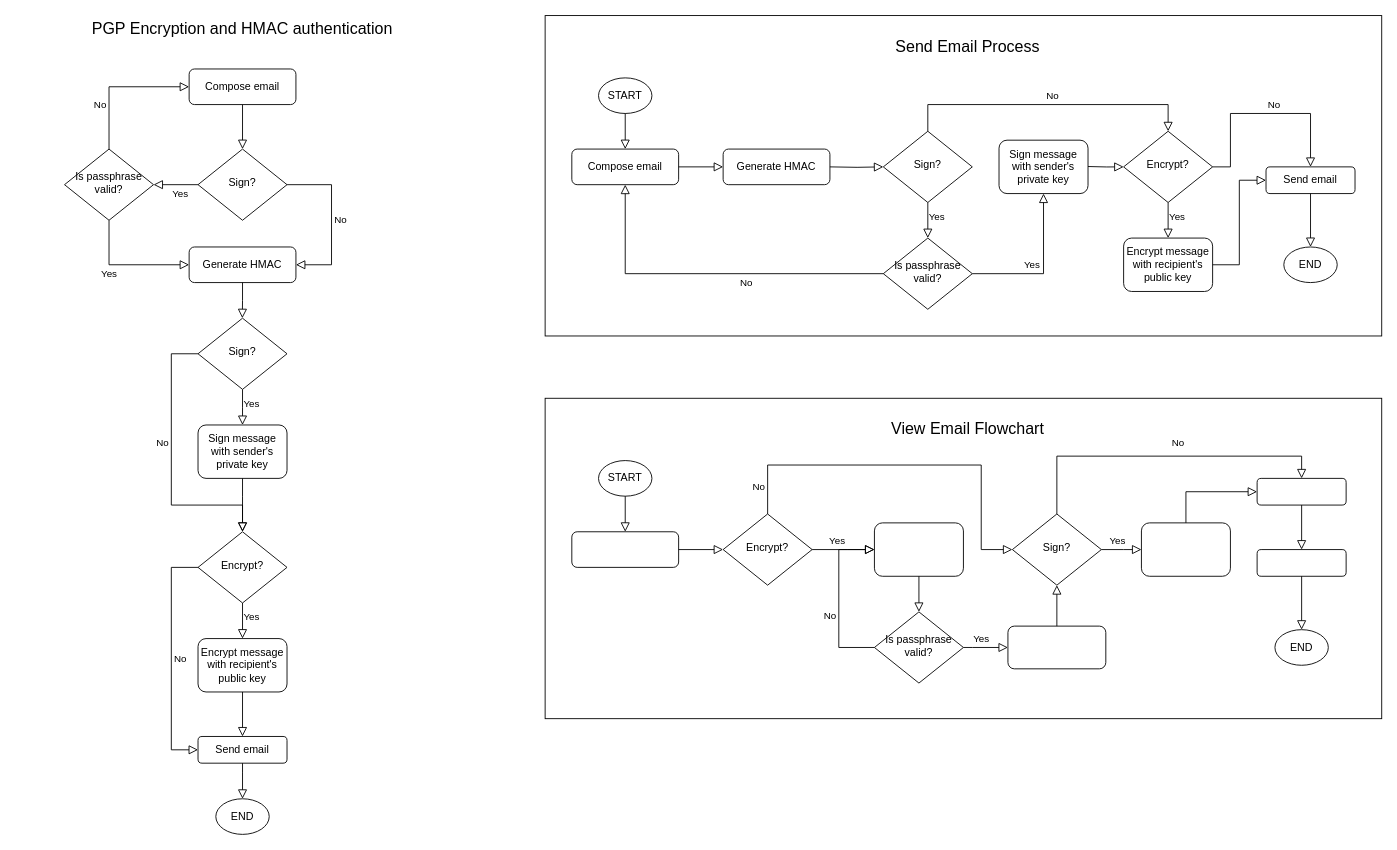
Some shapes in this 1397 by 850 pixel diagram are drawn without their labels. Here are the shapes that lost their labels. From the top down, the centre of each, then its label:
At point 1301,491: "Verify HMAC".
At point 625,549: "Open email".
At point 918,549: "Input passphrase".
At point 1185,549: "Verify message with sender's public key".
At point 1301,562: "View email".
At point 1056,647: "Decrypt message with user private key".
